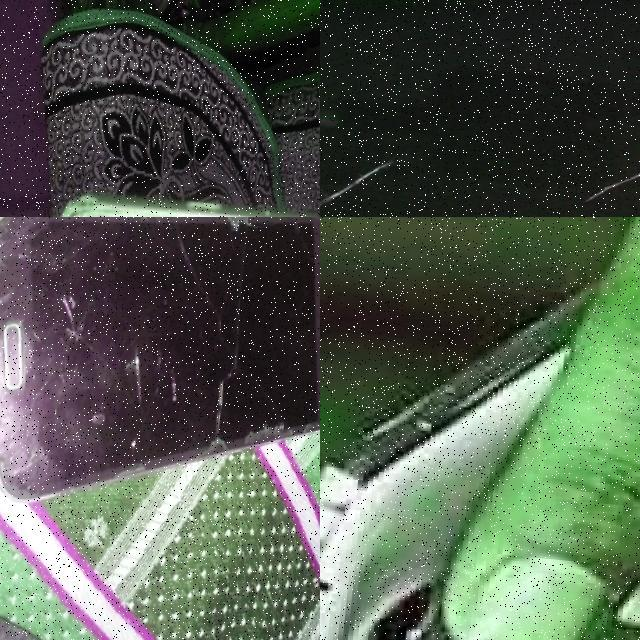scratch: (320, 148, 401, 217), (589, 126, 640, 207)
screen crack: (183, 378, 318, 475), (45, 264, 107, 368), (123, 332, 167, 464), (46, 154, 129, 217), (210, 217, 280, 249)
